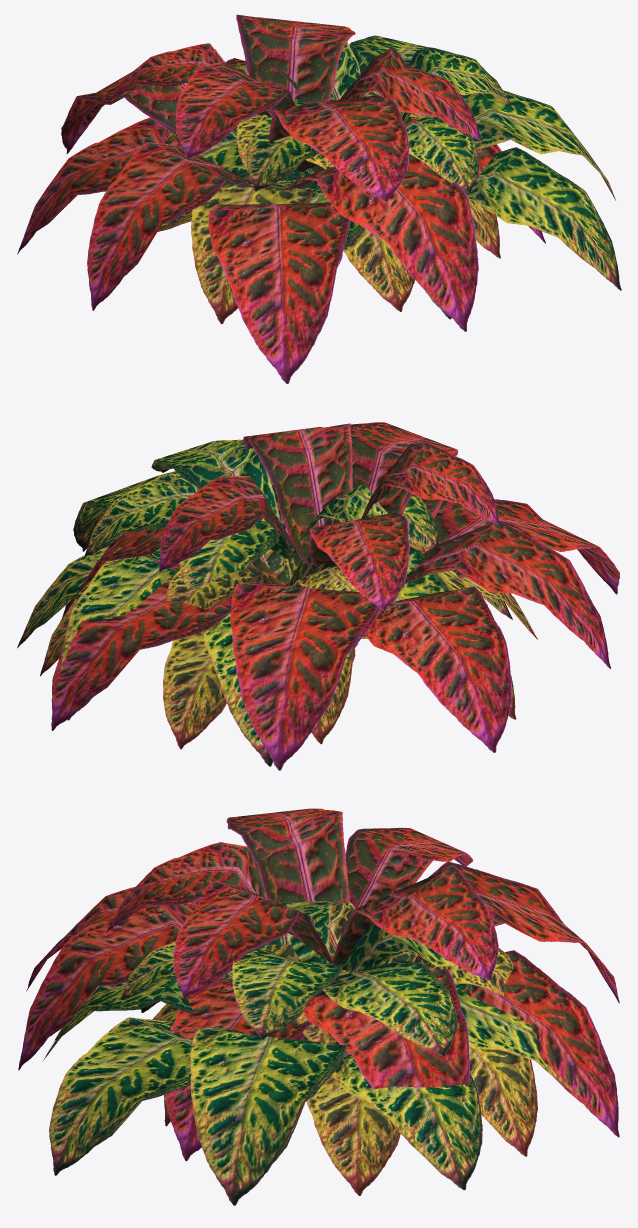
File: croton.glb
The picture shows the model from 3 angles, top to bottom: view 1: azimuth 30°, elevation 25°; view 2: azimuth 150°, elevation 25°; view 3: azimuth 270°, elevation 25°; orthographic projection. The views are drawn at different scales.
Visible parts, largest first — view 1: lejos, cerca; view 2: lejos, cerca; view 3: lejos, cerca.
Boxes of the visible parts, bbox=[...] form: lejos: bbox=[35, 14, 612, 339]; cerca: bbox=[17, 14, 621, 383]; lejos: bbox=[18, 422, 615, 746]; cerca: bbox=[17, 423, 619, 770]; lejos: bbox=[32, 808, 613, 1189]; cerca: bbox=[18, 808, 619, 1205].
Size of the model in its own units: 2.98 by 1.1 by 2.78.
Materials: 1 (1 with a texture image).
